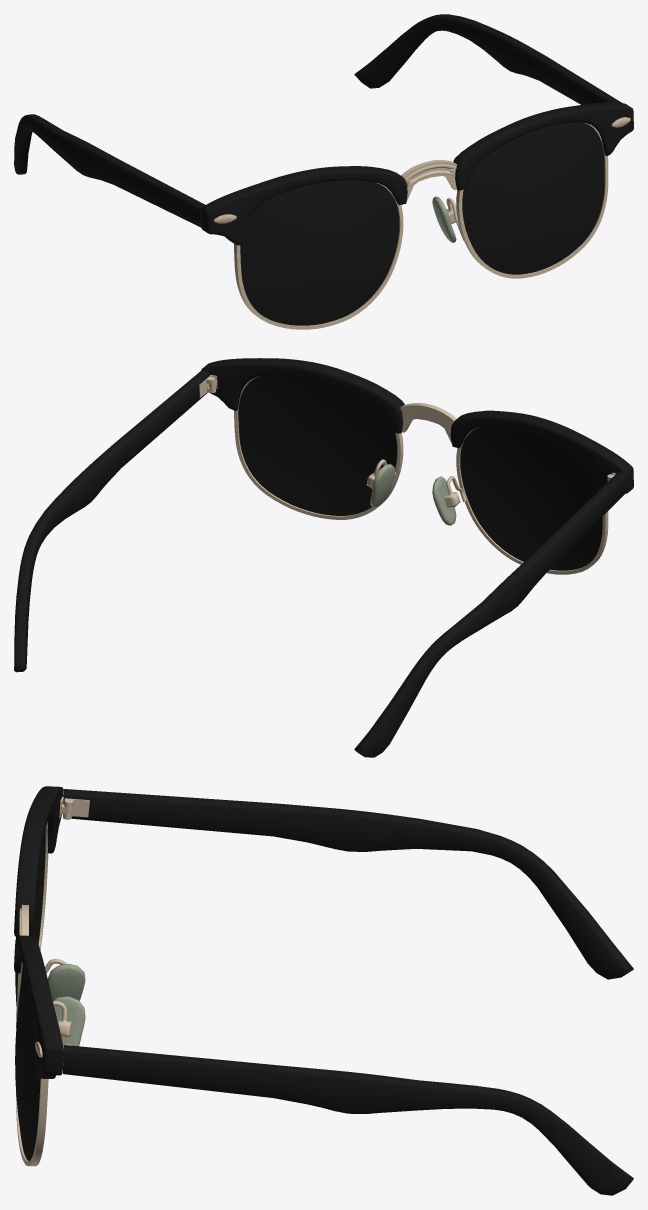
The model's file is SM_Glasses_04.FBX.
3 views of the same model, one above another, from view 1: azimuth 30°, elevation 25°; view 2: azimuth 150°, elevation 25°; view 3: azimuth 270°, elevation 25° (orthographic). The views are drawn at different scales.
Visible parts, largest first — view 1: SM_Glasses_04; view 2: SM_Glasses_04; view 3: SM_Glasses_04.
Part boxes in pixels (left/top/right/bottom): SM_Glasses_04: left=14, top=14, right=633, bottom=329; SM_Glasses_04: left=14, top=358, right=633, bottom=757; SM_Glasses_04: left=14, top=786, right=633, bottom=1195.
Size of the model in its own units: 13.57 by 4.69 by 13.89.
